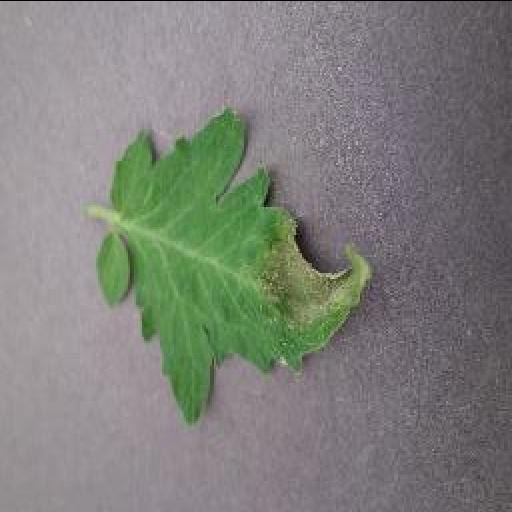disease_tomato: (94, 110, 376, 418)
